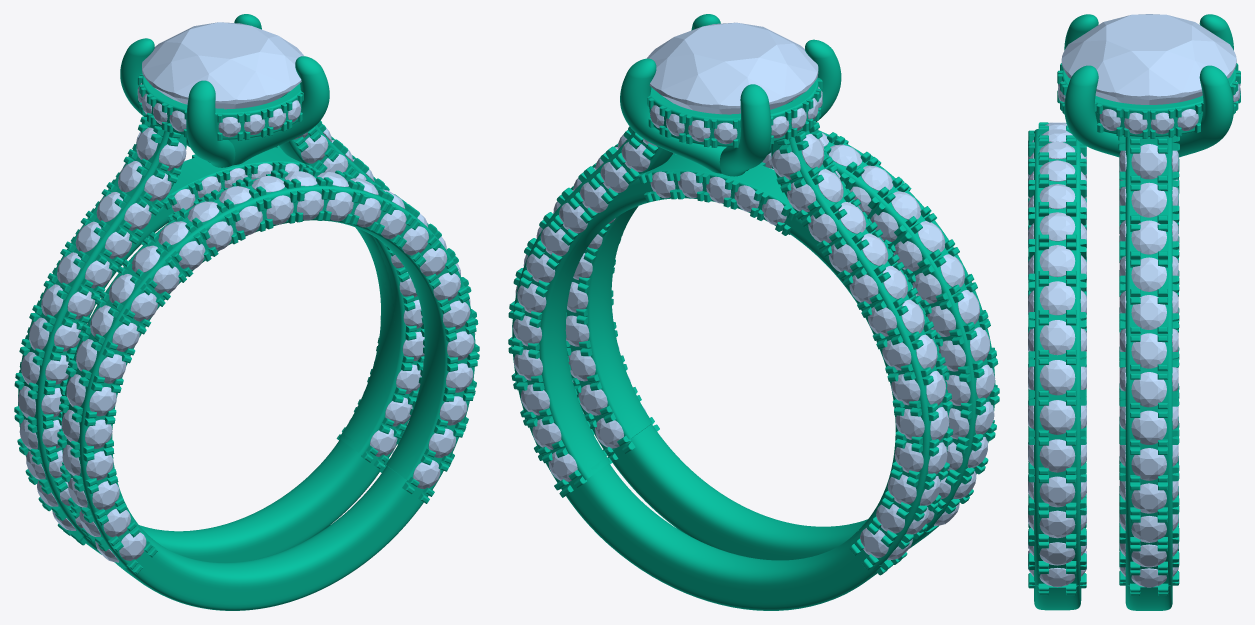
3 renders of one model, left to right at view 1: azimuth 30°, elevation 25°; view 2: azimuth 150°, elevation 25°; view 3: azimuth 270°, elevation 25°, orthographic. The views are drawn at different scales.
Visible parts, largest first — view 1: banner(front).3dm, Diamond_Round, Bezel; view 2: banner(front).3dm, Diamond_Round, Bezel; view 3: banner(front).3dm, GemOnCrv (×27), Diamond_Round (×5), Bezel.
Boxes of the visible parts, x1,y1,x2,y2 form: banner(front).3dm: [14, 14, 479, 610]; Diamond_Round: [142, 22, 304, 109]; Bezel: [142, 75, 301, 139]; banner(front).3dm: [508, 14, 999, 610]; Diamond_Round: [647, 22, 818, 114]; Bezel: [649, 79, 818, 146]; banner(front).3dm: [1028, 14, 1240, 610]; GemOnCrv (×27): [1039, 142, 1166, 587]; Diamond_Round (×5): [1061, 14, 1236, 134]; Bezel: [1062, 68, 1236, 136].
Bounding box in the file's own units: 2.42 × 3.01 × 1.05.
